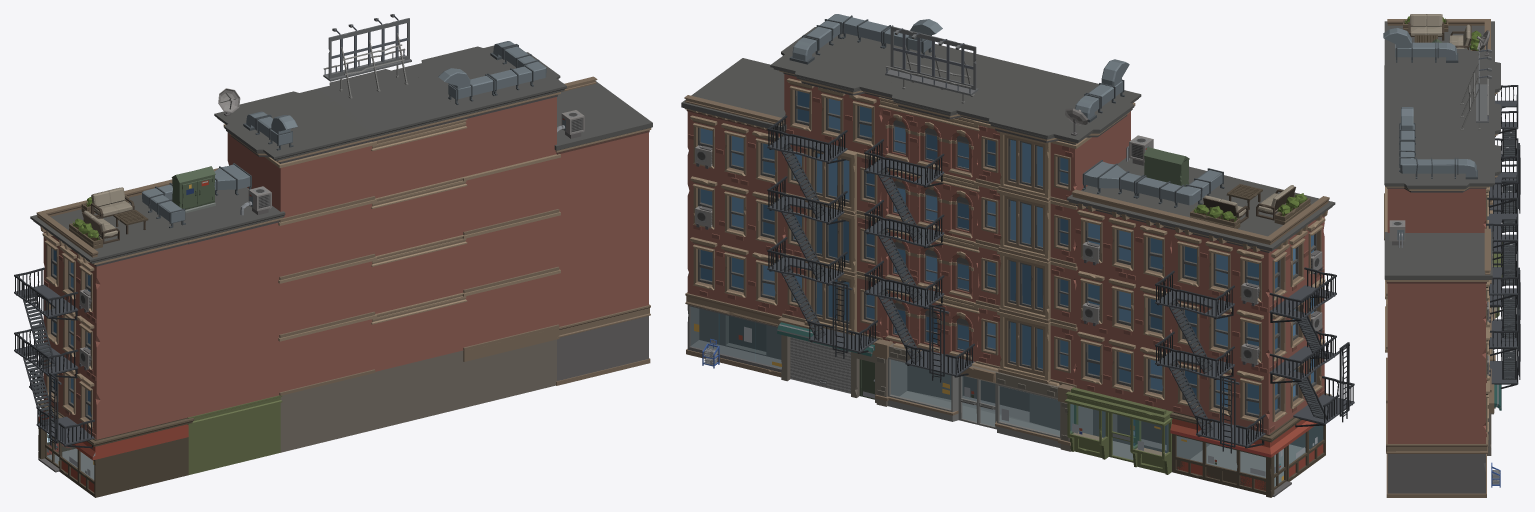
Rendered from buildings.glb.
3 renders of one model, left to right at view 1: azimuth 30°, elevation 25°; view 2: azimuth 150°, elevation 25°; view 3: azimuth 270°, elevation 25°, orthographic. The views are drawn at different scales.
Parts seen in each view (by area): view 1: SM3D_Bld_Mixed_Double_5fl, SM3D_Bld_Mixed_Corner_4fl, SM3D_Bld_Mixed_5fl, SM3D_Bld_Mixed_4fl_2, SM3D_Bld_Mixed_4fl; view 2: SM3D_Bld_Mixed_Double_5fl, SM3D_Bld_Mixed_Corner_4fl, SM3D_Bld_Mixed_5fl, SM3D_Bld_Mixed_4fl_2, SM3D_Bld_Mixed_4fl; view 3: SM3D_Bld_Mixed_4fl, SM3D_Bld_Mixed_5fl, SM3D_Bld_Mixed_Double_5fl, SM3D_Bld_Mixed_Corner_4fl, SM3D_Bld_Mixed_4fl_2.
Boxes of the visible parts, box(x1,y1,x2,y2) form: SM3D_Bld_Mixed_Double_5fl: box(214, 14, 468, 452); SM3D_Bld_Mixed_Corner_4fl: box(14, 187, 194, 497); SM3D_Bld_Mixed_5fl: box(404, 41, 566, 407); SM3D_Bld_Mixed_4fl_2: box(133, 163, 285, 474); SM3D_Bld_Mixed_4fl: box(554, 76, 652, 385); SM3D_Bld_Mixed_Double_5fl: box(864, 26, 1141, 451); SM3D_Bld_Mixed_Corner_4fl: box(1155, 176, 1354, 497); SM3D_Bld_Mixed_5fl: box(767, 14, 942, 402); SM3D_Bld_Mixed_4fl_2: box(1064, 135, 1230, 474); SM3D_Bld_Mixed_4fl: box(681, 58, 786, 377); SM3D_Bld_Mixed_4fl: box(1384, 220, 1500, 497); SM3D_Bld_Mixed_5fl: box(1384, 107, 1520, 455); SM3D_Bld_Mixed_Double_5fl: box(1383, 27, 1520, 414); SM3D_Bld_Mixed_Corner_4fl: box(1384, 14, 1520, 240); SM3D_Bld_Mixed_4fl_2: box(1384, 39, 1502, 318).
Bounding box in the file's own units: 31.89 × 18.56 × 6.99.
2 materials, 1 textured.
